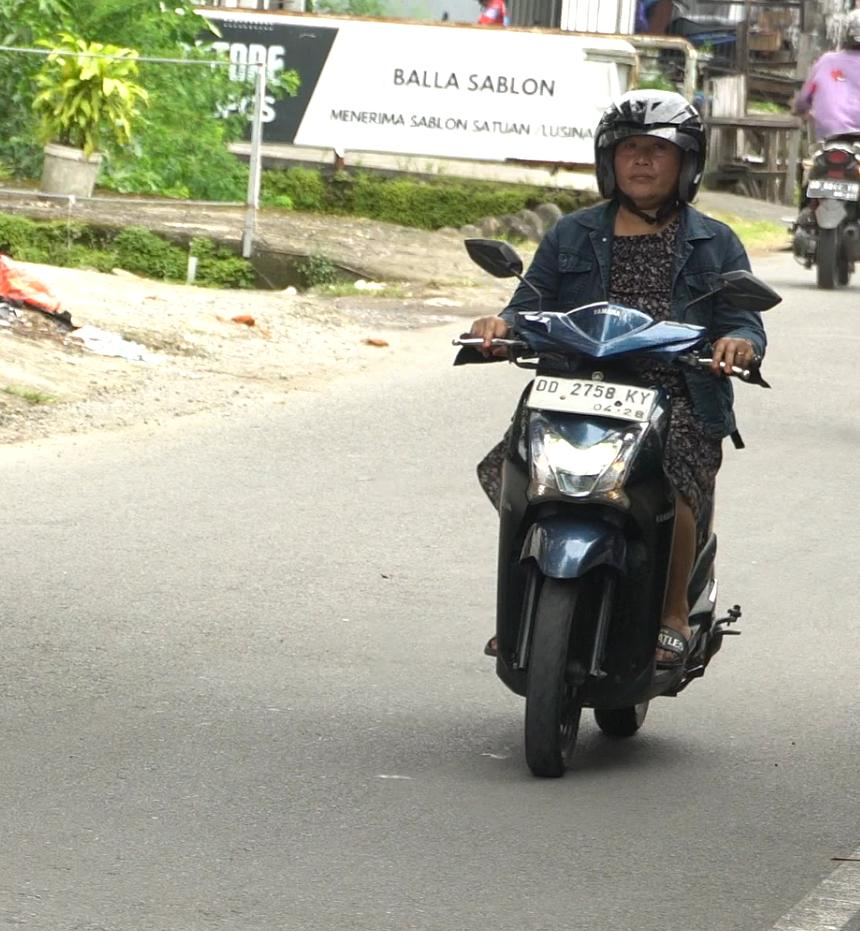number-plate: (527, 367, 656, 426)
